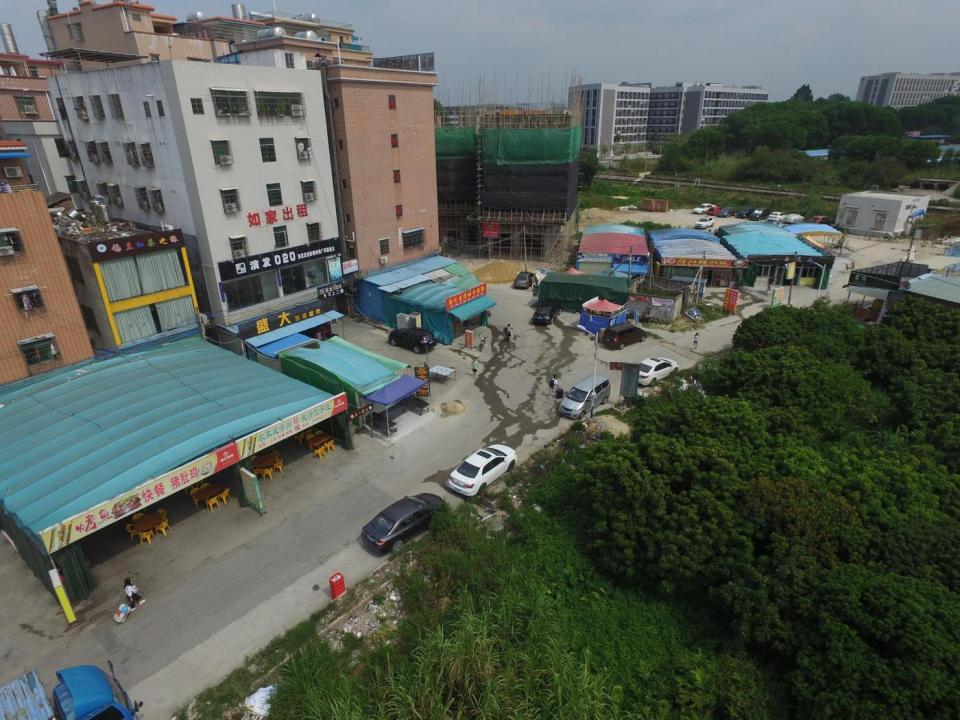car: (359, 492, 448, 556), (446, 441, 519, 495), (388, 327, 440, 354), (600, 322, 648, 350), (634, 357, 680, 386), (531, 299, 562, 326), (514, 271, 536, 290), (809, 215, 835, 226), (694, 216, 714, 230), (783, 213, 806, 225), (692, 202, 714, 214), (717, 206, 739, 217), (749, 208, 771, 219), (736, 207, 756, 218), (767, 211, 787, 222), (706, 206, 724, 215)
truck: (2, 666, 146, 720)
van: (558, 372, 612, 419)
